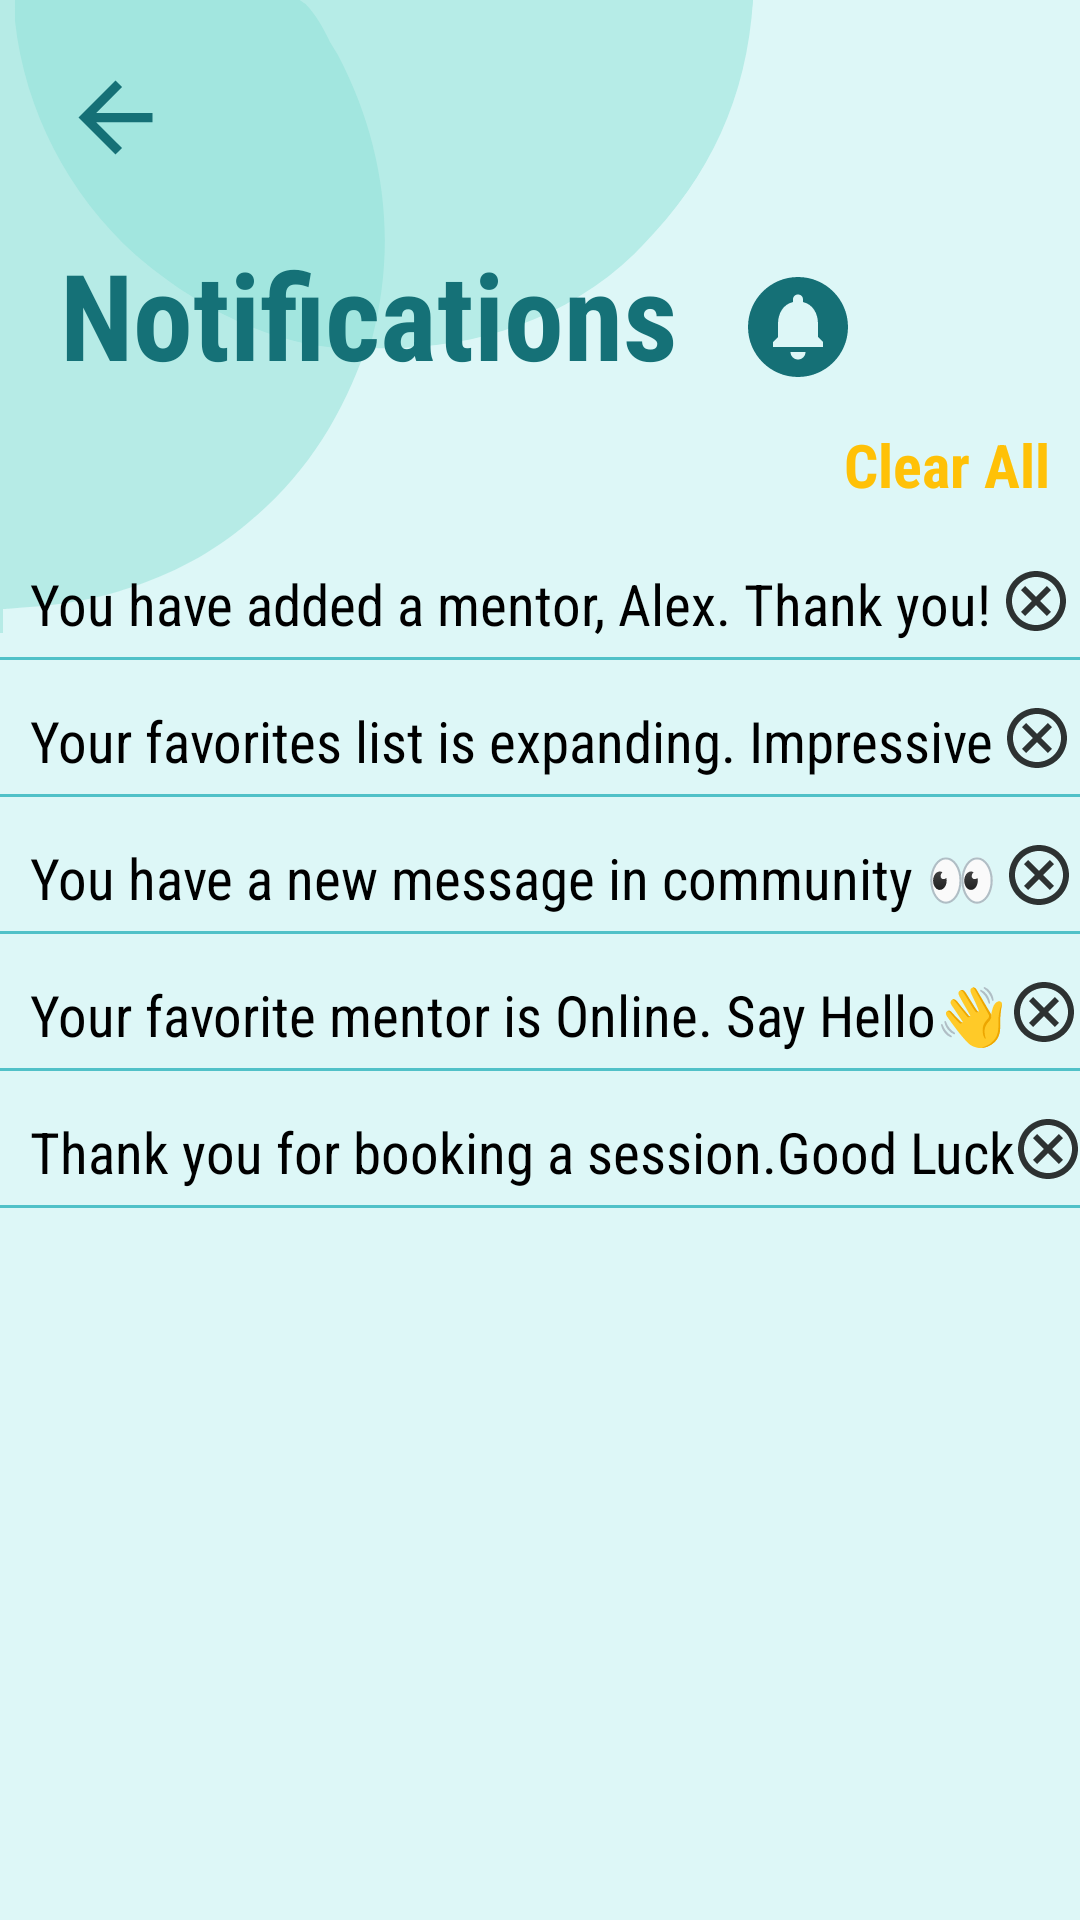

Screen size 1080*1920. Icon name, then its box in pixels as bbox(x1, y1, x2, y2):
cancel: bbox(1006, 571, 1066, 631), bbox(1007, 708, 1067, 768), bbox(1009, 845, 1069, 905), bbox(1014, 982, 1074, 1042), bbox(1018, 1119, 1078, 1179)
